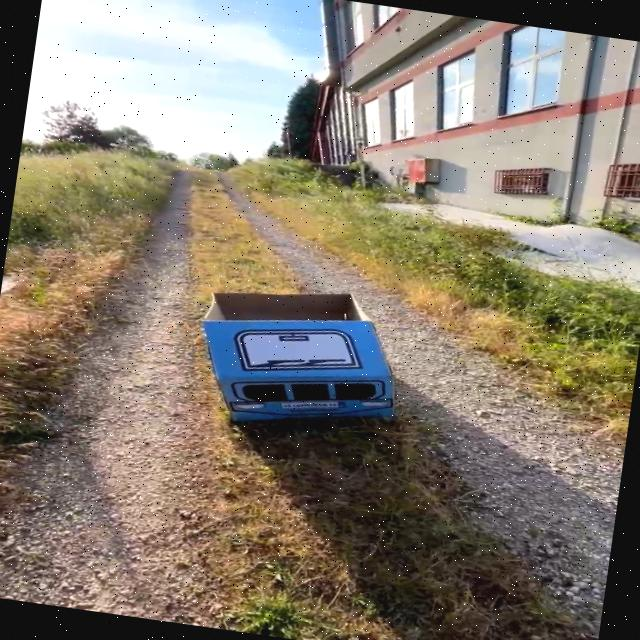blue_car: (112, 241, 490, 473)
